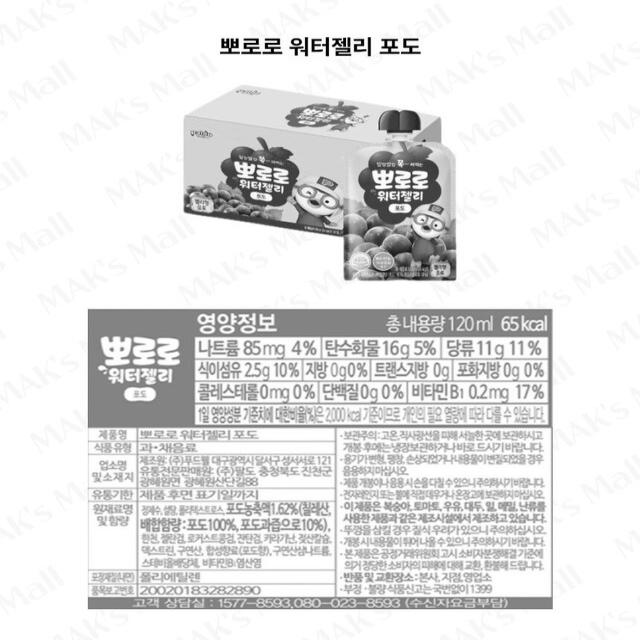Nutrition Label: (53, 299, 593, 431)
